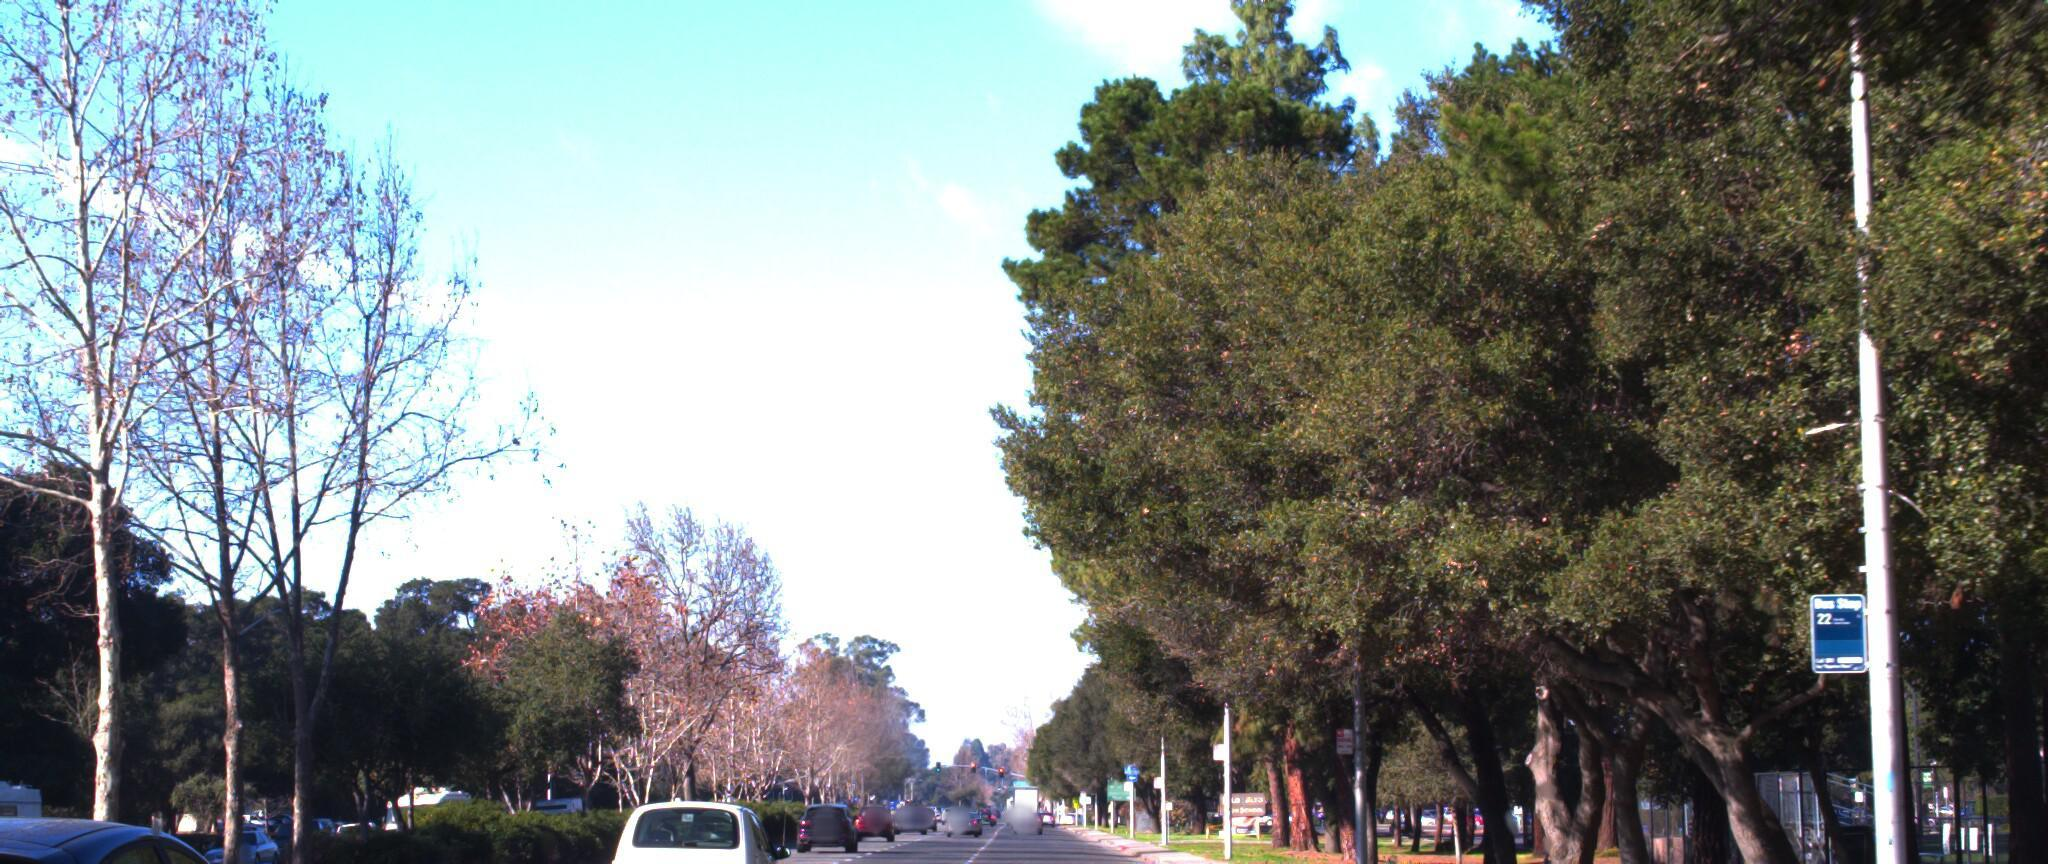car: (0, 779, 379, 864), (589, 788, 799, 864)
other_vehicle: (0, 760, 61, 864)
